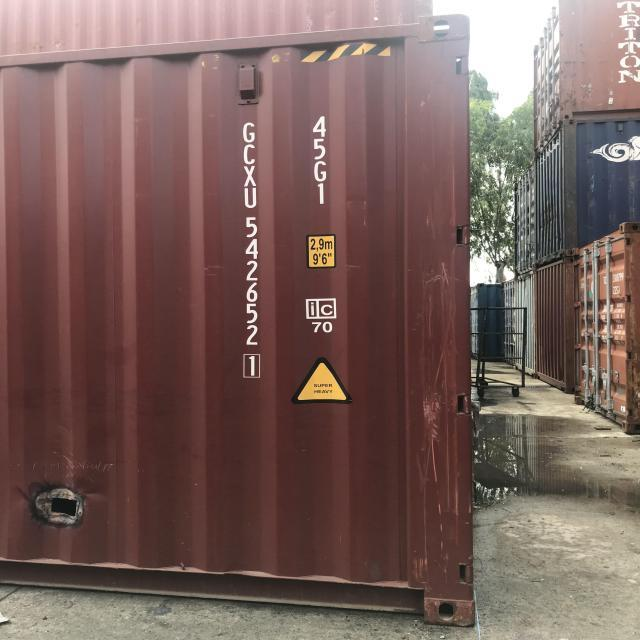hole: (40, 484, 83, 532)
